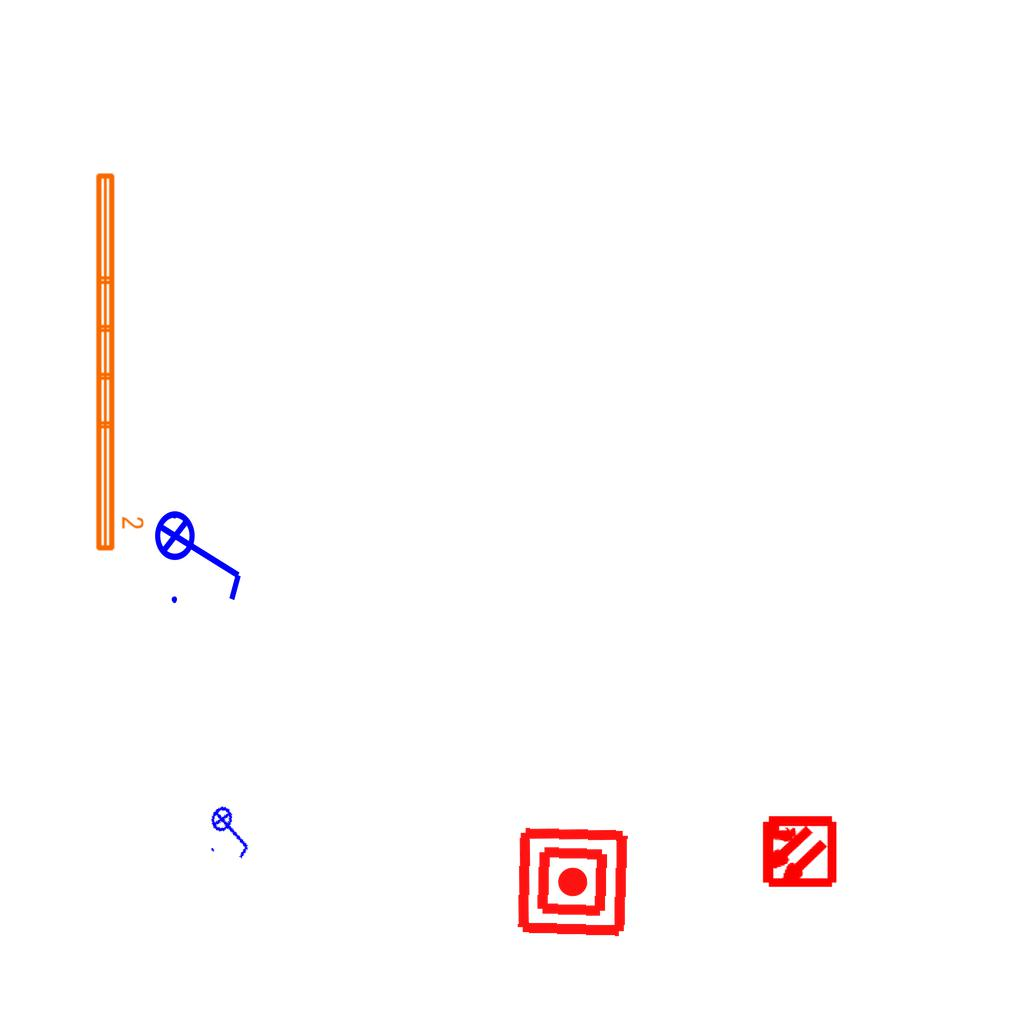Ambulanz_Pendelleuchte_LED: (90, 168, 146, 555)
Ausschalter_beleuchtet: (153, 497, 249, 609), (201, 797, 263, 865)
NAM-Nichtautomatischer_Melder: (514, 823, 631, 940)
OT_Multisensormelder_(Kombination_RMO_WMD): (741, 795, 854, 908)
